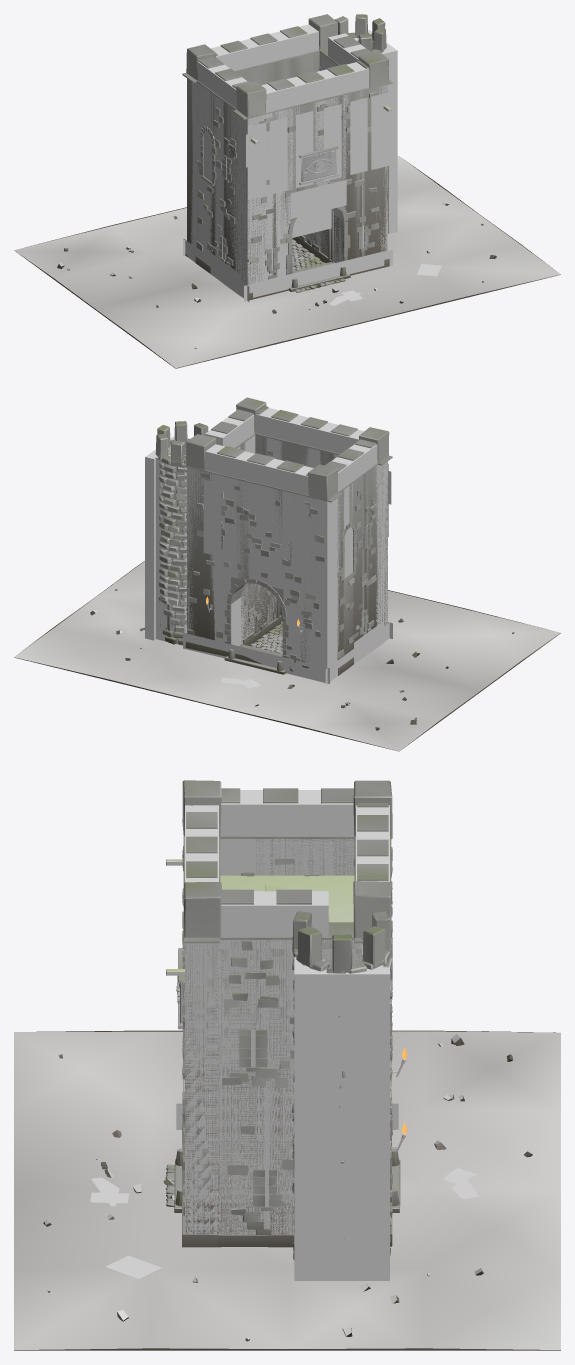
Rendered from bld_gatehouse_south_shared.glb.
3 renders of one model, top to bottom at view 1: azimuth 30°, elevation 25°; view 2: azimuth 150°, elevation 25°; view 3: azimuth 270°, elevation 25°, orthographic. The views are drawn at different scales.
Parts seen in each view (by area): view 1: ground_mud, decals_gate, wall_S, merlons, col_wall_S_W, col_wall_W, wall_S_stones, col_merlons_S, wall_N, col_merlons_N, wall_W, wall_W_stones (+10 smaller); view 2: ground_mud, col_wall_N_W, decals_gate, merlons, turret_wall, wall_W, col_wall_N_top, wall_N, wall_N_stones, col_wall_N_E, col_merlons_N, col_turret_N (+12 smaller); view 3: ground_mud, col_turret_E, col_wall_E, merlons, col_wall_S_E, wall_E, wall_E_stones, col_merlons_W, col_wall_W, wall_S, turret_wall, col_merlons_E (+9 smaller).
Boxes of the visible parts, box(x1,y1,x2,y2) form: ground_mud: box(14, 156, 560, 368); decals_gate: box(183, 92, 441, 305); wall_S: box(237, 85, 387, 284); merlons: box(182, 14, 392, 119); col_wall_S_W: box(237, 108, 291, 284); col_wall_W: box(197, 82, 237, 271); wall_S_stones: box(247, 91, 389, 300); col_merlons_S: box(261, 62, 369, 112); wall_N: box(187, 52, 319, 243); col_merlons_N: box(210, 24, 319, 70); wall_W: box(197, 86, 237, 271); wall_W_stones: box(195, 107, 236, 273); ground_mud: box(14, 561, 560, 751); col_wall_N_W: box(283, 491, 337, 667); decals_gate: box(183, 463, 392, 687); merlons: box(182, 397, 392, 502); turret_wall: box(155, 421, 208, 644); wall_W: box(337, 466, 377, 659); col_wall_N_top: box(231, 478, 283, 589); wall_N: box(187, 468, 314, 662); wall_N_stones: box(185, 472, 330, 681); col_wall_N_E: box(187, 467, 240, 646); col_merlons_N: box(205, 444, 313, 495); col_turret_N: box(150, 453, 186, 645); ground_mud: box(14, 1030, 560, 1350); col_turret_E: box(294, 967, 389, 1280); col_wall_E: box(219, 940, 355, 1234); merlons: box(182, 780, 392, 943); col_wall_S_E: box(185, 943, 218, 1233); wall_E: box(219, 940, 355, 1234); wall_E_stones: box(217, 941, 332, 1247); col_merlons_W: box(220, 790, 353, 835); col_wall_W: box(220, 839, 354, 875); wall_S: box(185, 943, 218, 1233); turret_wall: box(292, 911, 392, 1259); col_merlons_E: box(221, 891, 328, 937).
Size of the model in its own units: 22 by 11.46 by 16.
